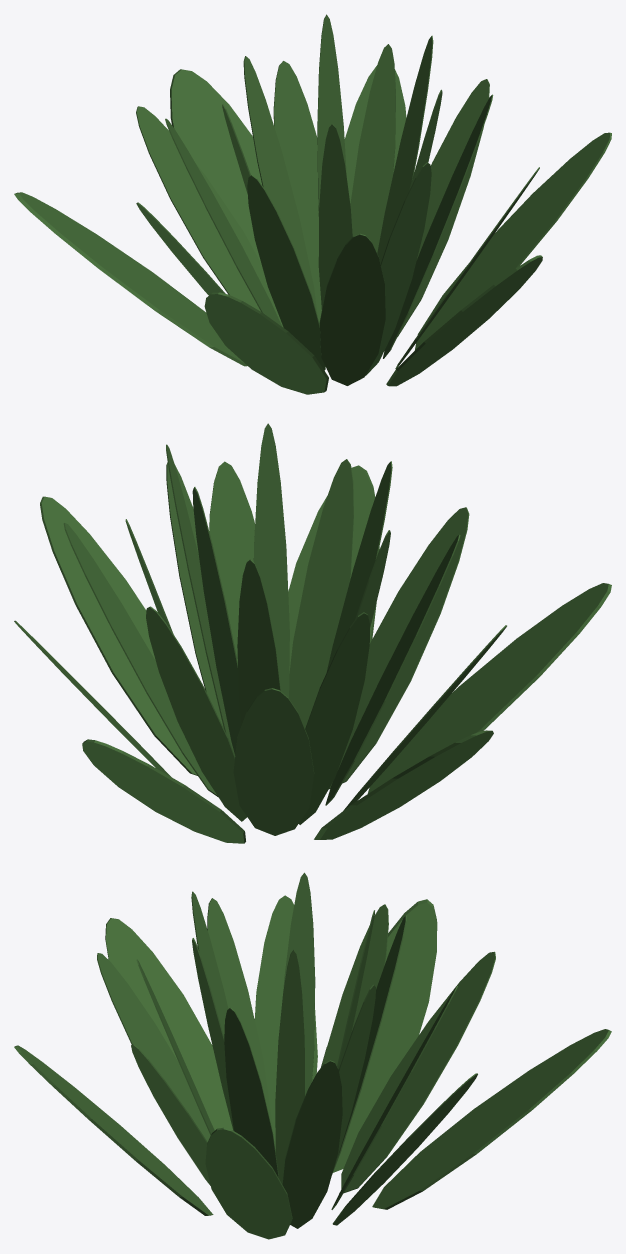
File: Grass.fbx
3 renders of one model, top to bottom at view 1: azimuth 30°, elevation 25°; view 2: azimuth 150°, elevation 25°; view 3: azimuth 270°, elevation 25°, orthographic. The views are drawn at different scales.
Parts seen in each view (by area): view 1: Circle; view 2: Circle; view 3: Circle.
Part boxes in pixels (x1=…): Circle: x1=14, y1=14, x2=611, y2=394; Circle: x1=14, y1=423, x2=611, y2=843; Circle: x1=14, y1=872, x2=611, y2=1239.
Size of the model in its own units: 476 by 284 by 493.
